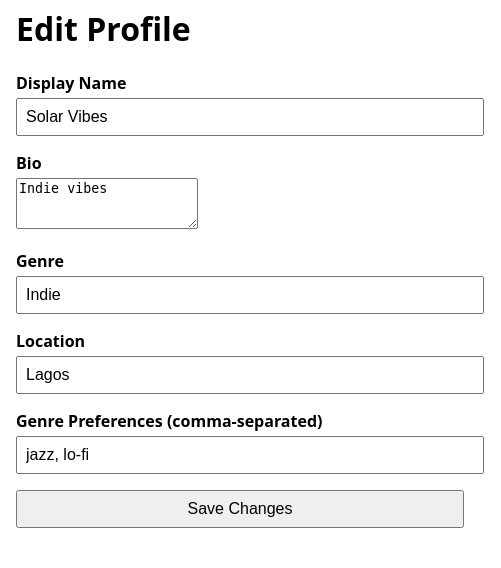
Scenario: EditProfilePage › shows validation error for a display name that is too short
The width and height of the screenshot is (501, 568).
Replace the text in the field labelled "Display Name" with "X" at (250,117), box [16,98,484,136]
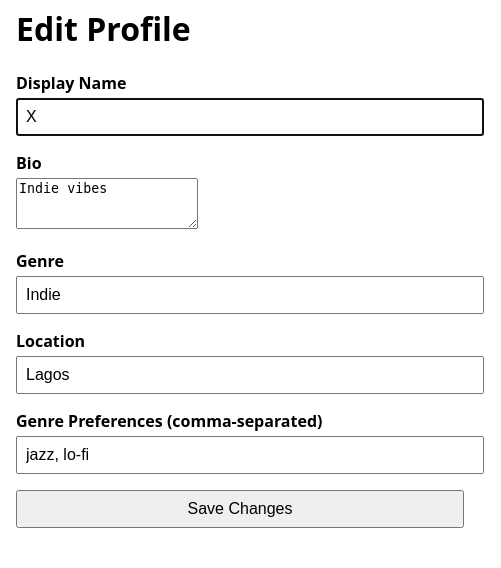
Click the button "Save Changes" at (240,509), box [16,490,464,528]
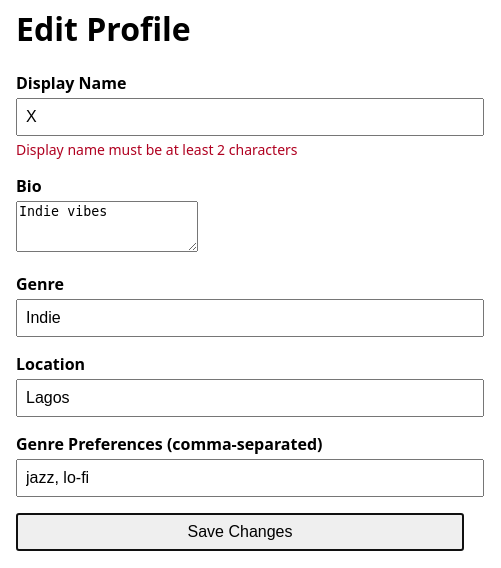
Now the message "Display name must be at least 2 characters" is shown, box [16,140,298,159]
